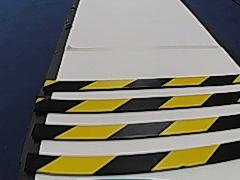bump: (33, 68, 239, 153)
